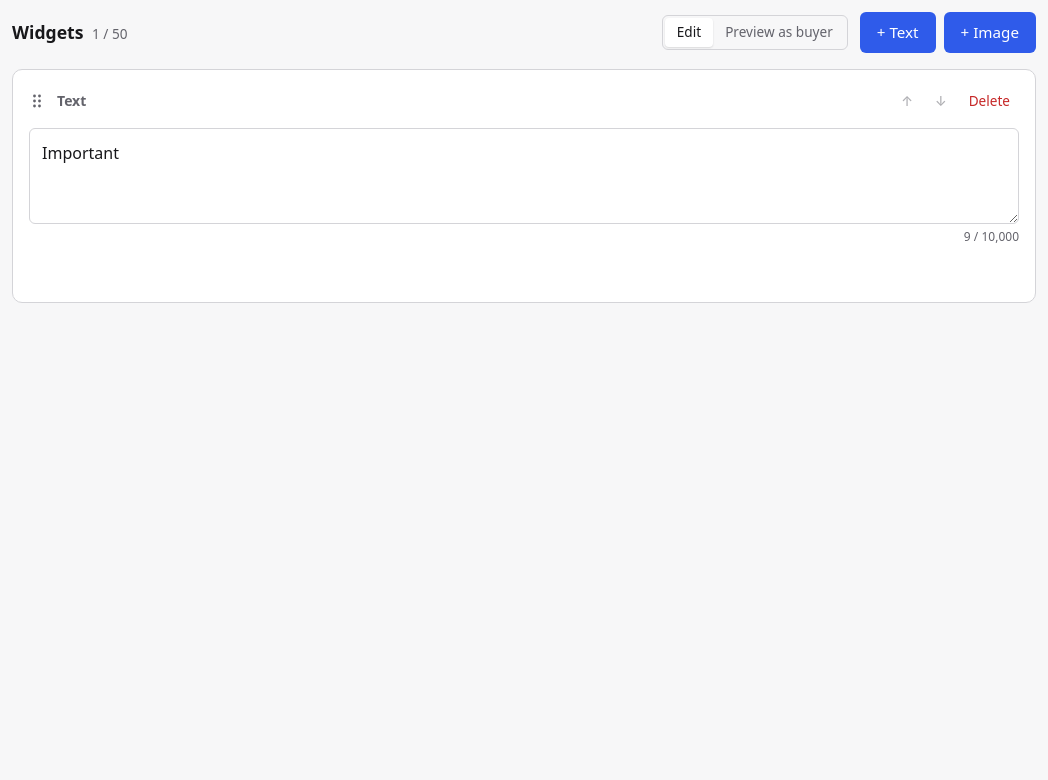
Test: WidgetBoard › deleting › deletes with undo: nothing is sent to the server if the user undoes
Click the button with aria-label "Delete widget".
click(989, 101)  # box [960,86,1019,116]
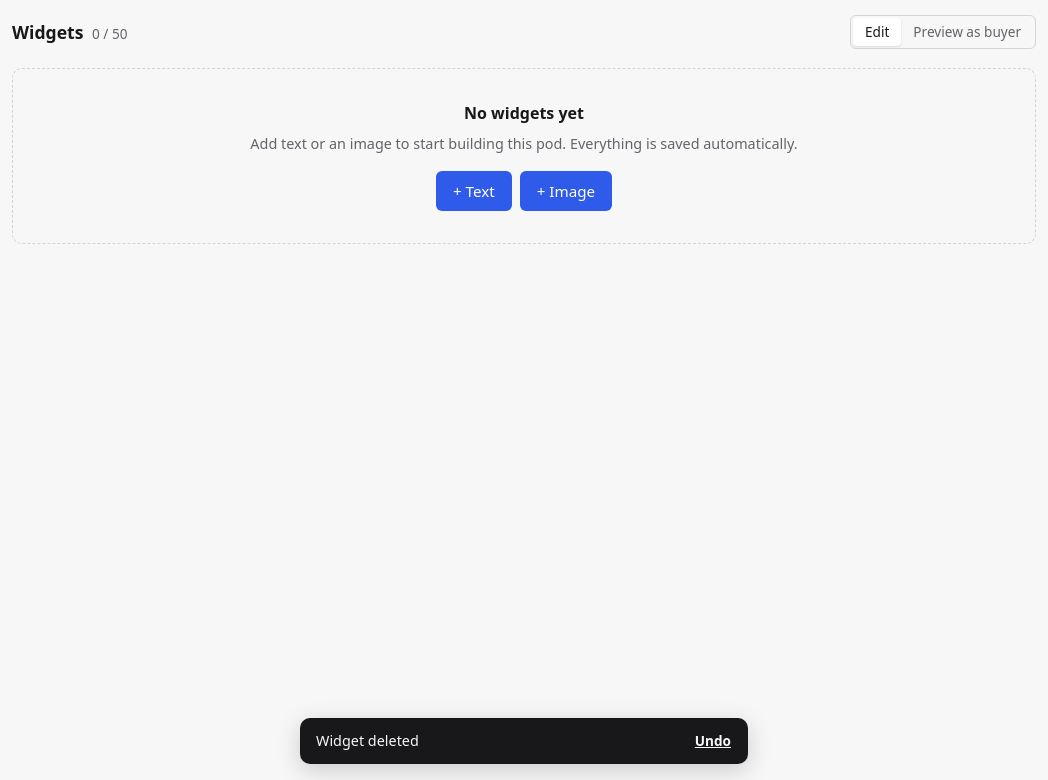
Click the button "Undo".
click(713, 741)  # box [686,726,740,756]
Wait 5100 ms
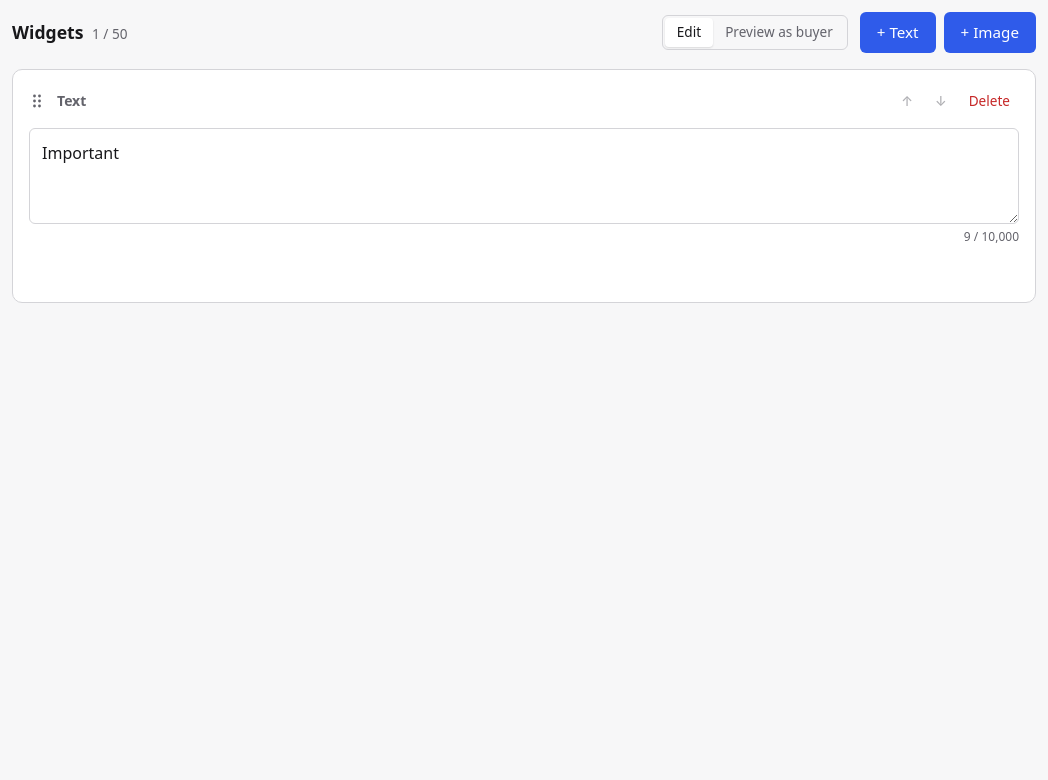
Expected: the text box named "Widget text" holds "Important", [29,128,1019,224]
